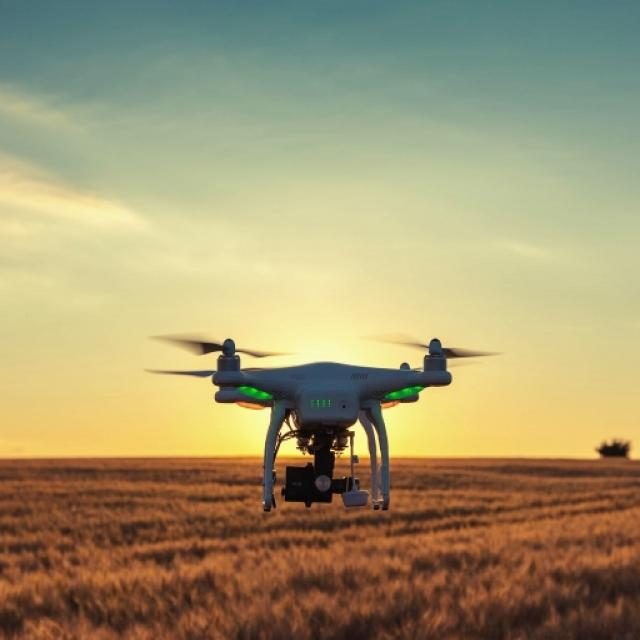drone: (128, 308, 504, 478)
